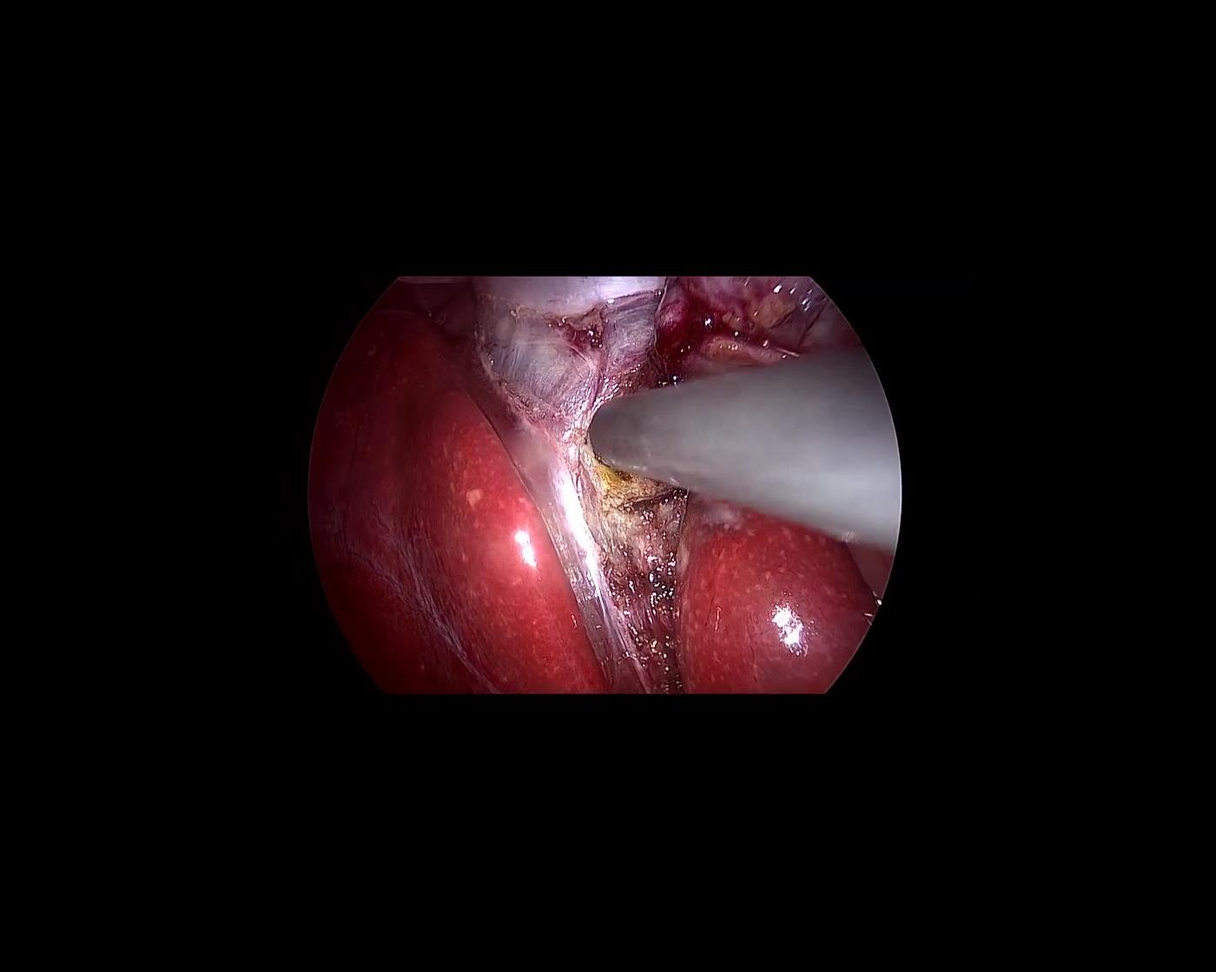Cautery: (580, 272, 956, 565)
Gallbladder: (475, 277, 664, 431)
Liver: (237, 256, 642, 782), (634, 496, 891, 739)
